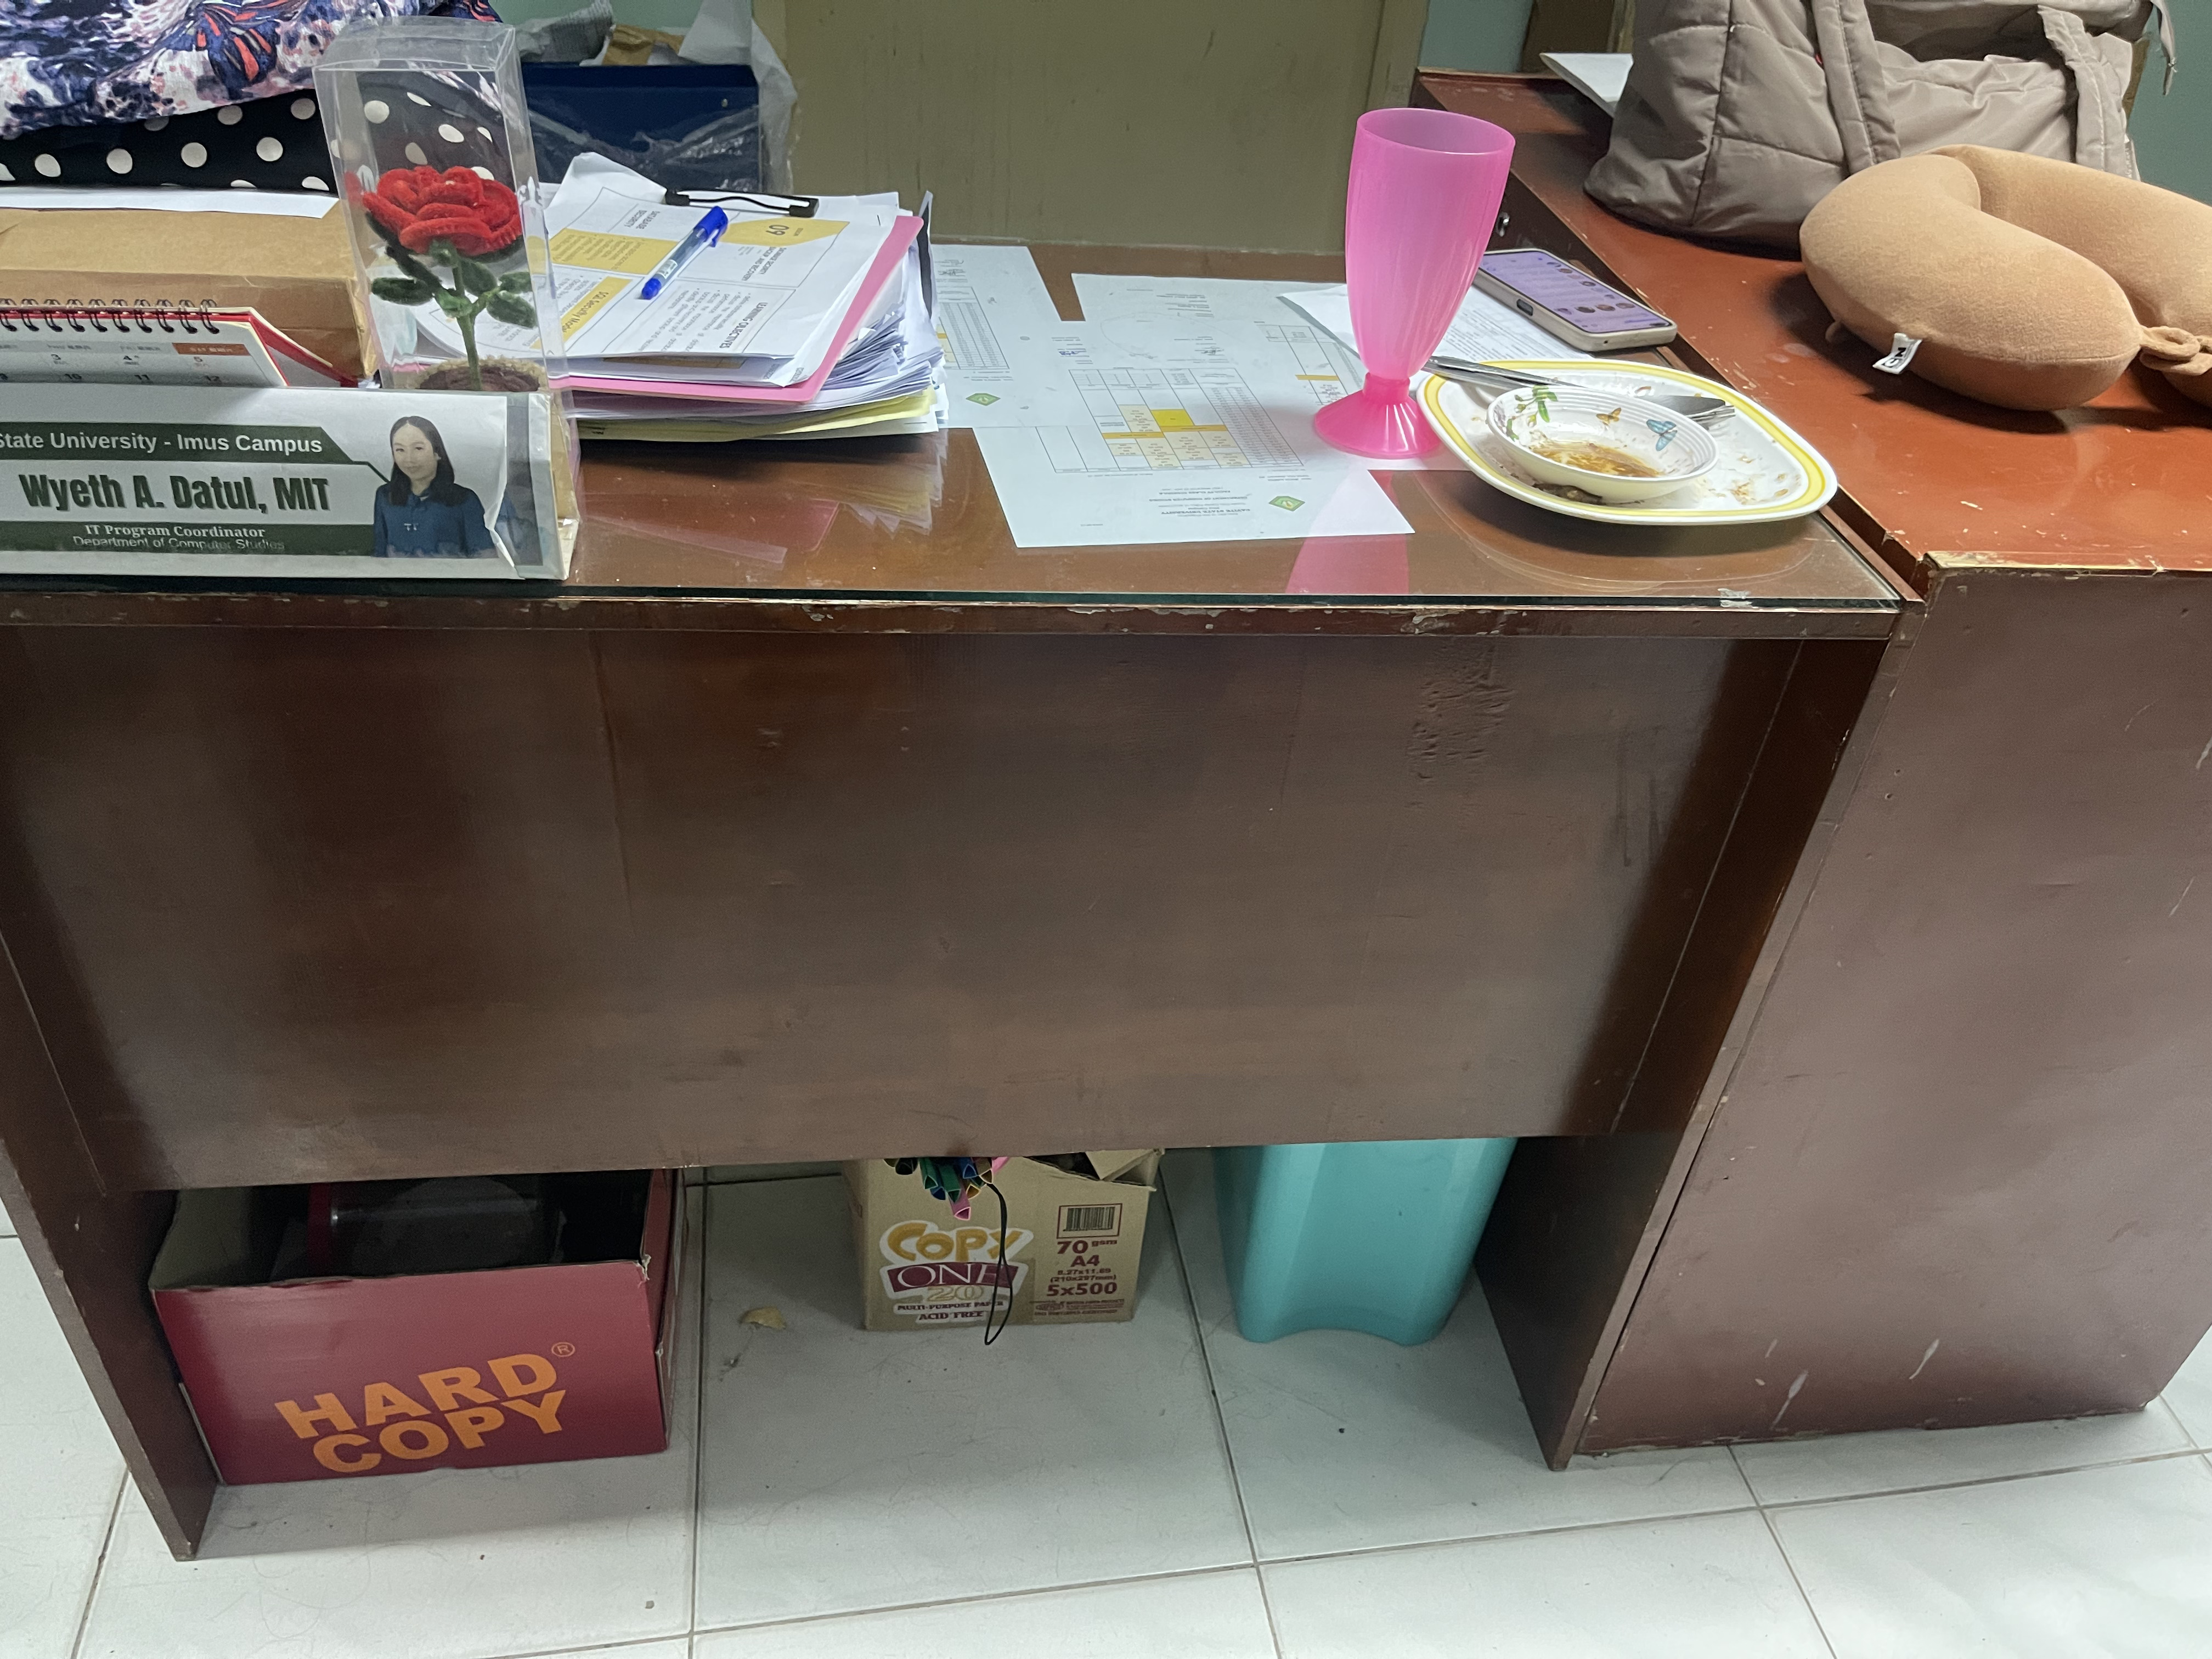table2: (14, 232, 2212, 1561)
